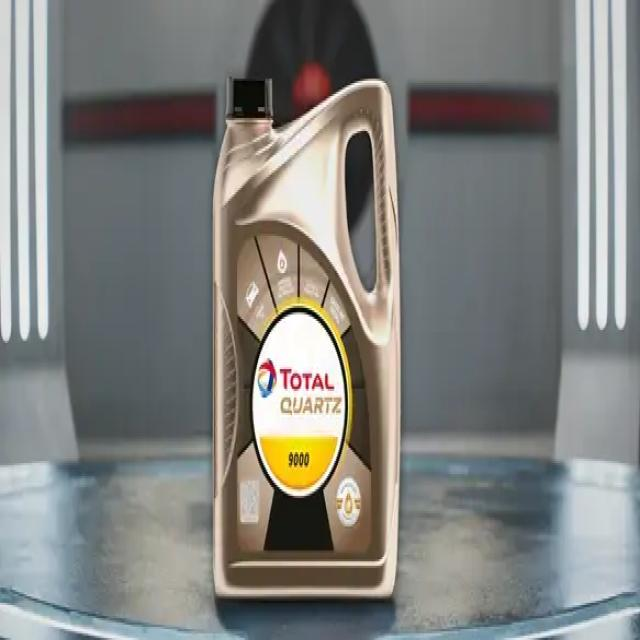motor_oil: (208, 65, 401, 606)
